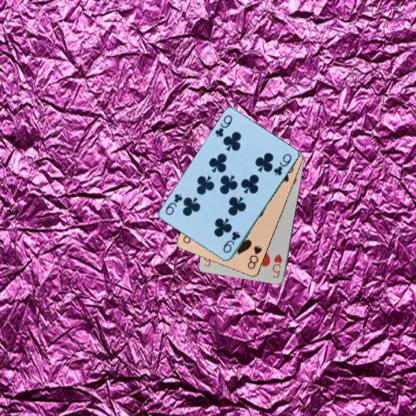5h: (270, 251, 284, 280)
8s: (245, 243, 263, 270)
9c: (220, 229, 242, 255), (212, 112, 233, 138)
